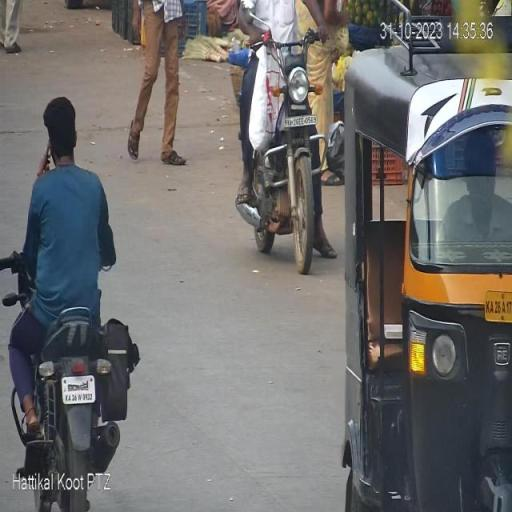numberplate: (63, 374, 97, 407)
using mobile: (38, 135, 52, 175)
